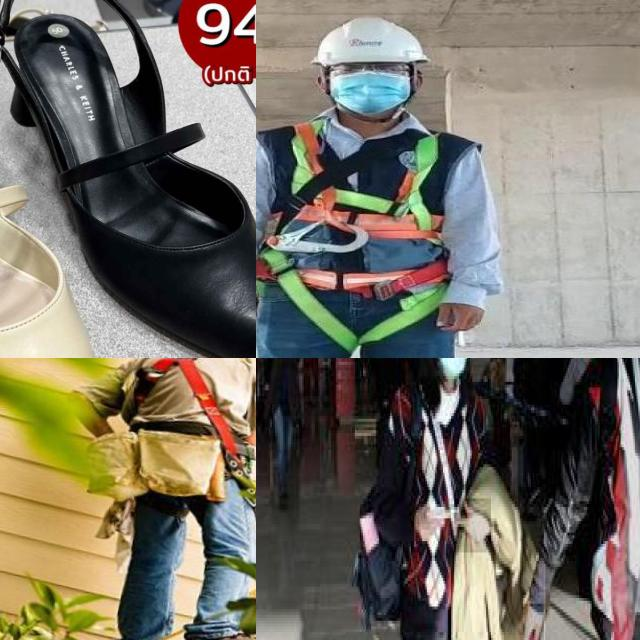Harness: (134, 358, 239, 458)
No_Ear-Protection: (308, 64, 328, 98), (409, 61, 426, 94)
Sandals: (0, 0, 256, 358), (0, 9, 121, 358)
face_mask: (436, 358, 468, 379)
face_nomask: (335, 72, 411, 117)
hand_noglove: (427, 291, 494, 339), (454, 498, 493, 556), (414, 498, 448, 552), (522, 603, 545, 640)
person: (256, 15, 504, 358), (359, 358, 524, 640), (545, 358, 640, 640)
